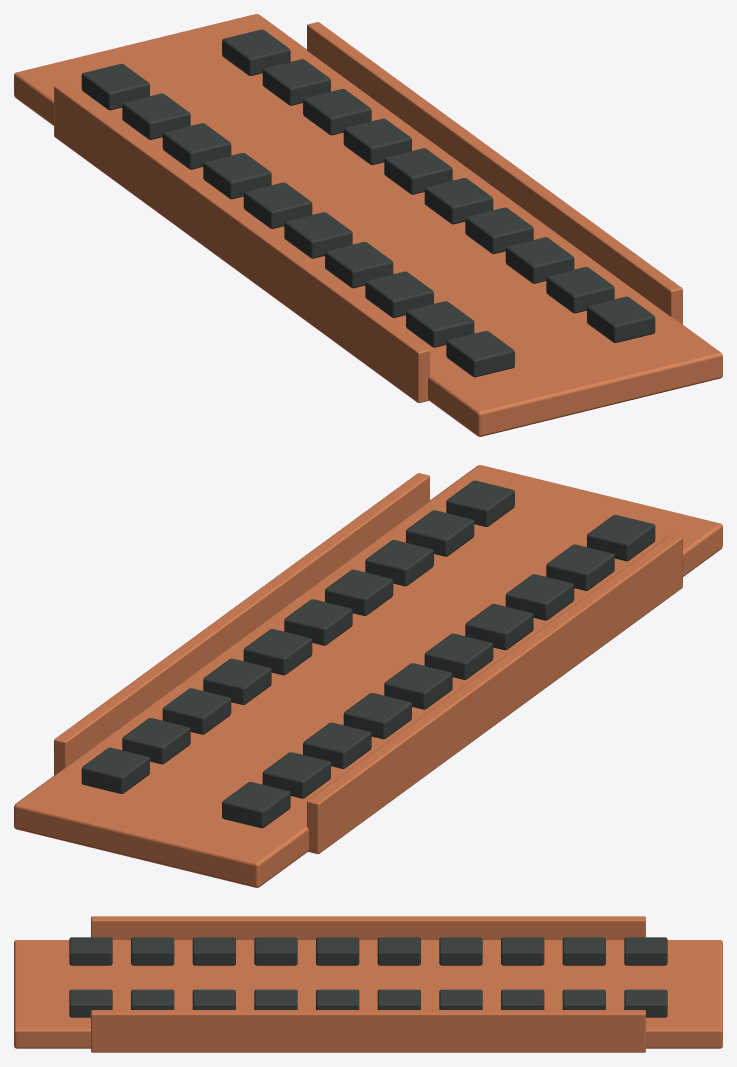
The model's file is survivor-vehicle-maintenance-recovery-track-cfa959f7__26680.glb.
3 views of the same model, one above another, from view 1: azimuth 30°, elevation 25°; view 2: azimuth 150°, elevation 25°; view 3: azimuth 270°, elevation 25° (orthographic). The views are drawn at different scales.
Parts seen in each view (by area): view 1: recovery-track; view 2: recovery-track; view 3: recovery-track.
Part boxes in pixels (<box>): recovery-track: <box>14,14,722,436</box>; recovery-track: <box>14,465,722,887</box>; recovery-track: <box>14,916,722,1052</box>.
Size of the model in its own units: 0.378 by 0.0701 by 1.15.
